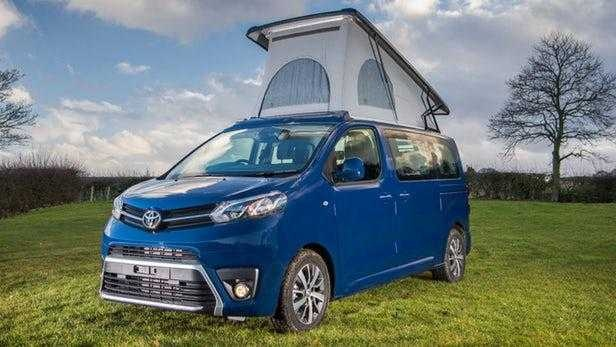van: (98, 111, 471, 330)
